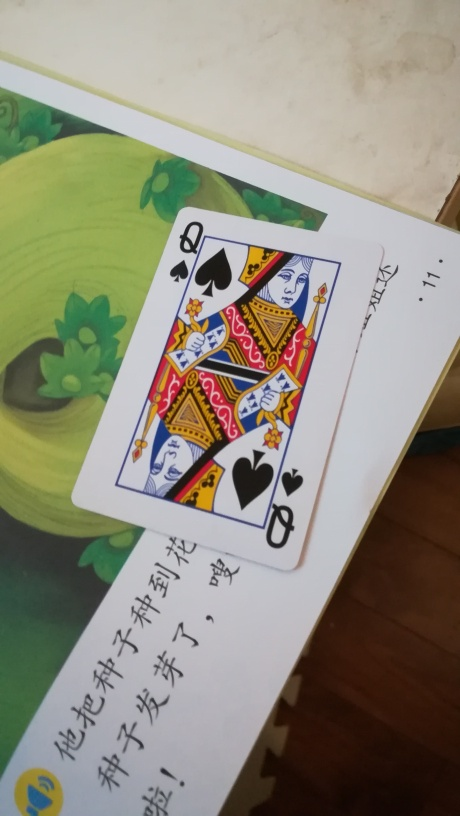ht q: (66, 203, 387, 576)
